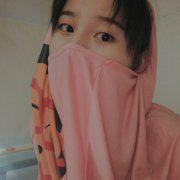OK: (49, 6, 142, 99)
